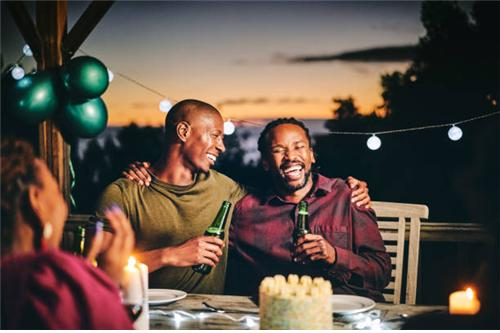alcohol: (191, 198, 232, 274), (293, 202, 312, 262), (73, 227, 89, 258)
